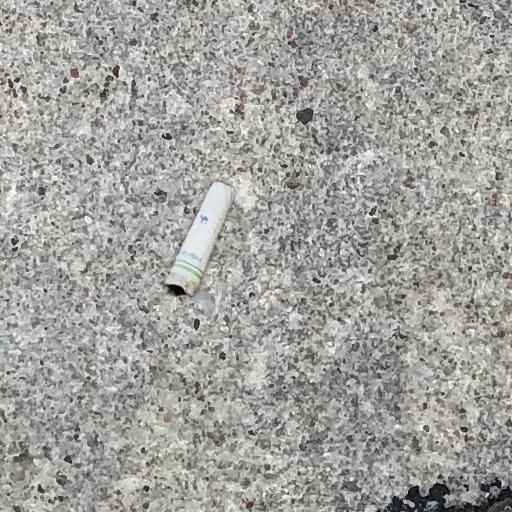smoke: (166, 182, 235, 295)
